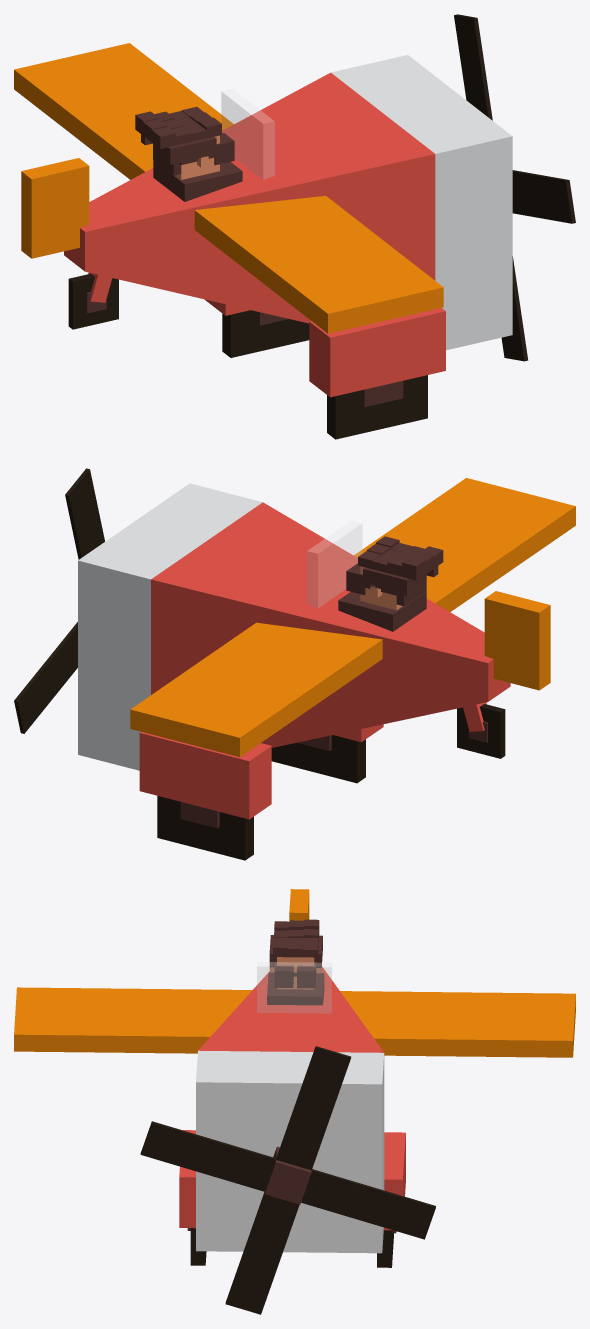
The picture shows the model from 3 angles, top to bottom: view 1: azimuth 30°, elevation 25°; view 2: azimuth 150°, elevation 25°; view 3: azimuth 270°, elevation 25°; orthographic projection. The views are drawn at different scales.
Parts seen in each view (by area): view 1: airplane, propeller, pilot, hairsTop; view 2: airplane, propeller, pilot, hairsTop; view 3: airplane, propeller, pilot, hairsTop.
Part boxes in pixels (bbox=[...]): airplane: bbox=[14, 43, 512, 439]; propeller: bbox=[454, 14, 575, 361]; pilot: bbox=[141, 133, 242, 201]; hairsTop: bbox=[135, 106, 221, 148]; airplane: bbox=[78, 478, 575, 860]; propeller: bbox=[14, 468, 104, 733]; pilot: bbox=[338, 563, 438, 631]; hairsTop: bbox=[358, 536, 443, 580]; airplane: bbox=[14, 889, 575, 1267]; propeller: bbox=[140, 1046, 435, 1314]; pilot: bbox=[267, 935, 324, 1005]; hairsTop: bbox=[273, 919, 319, 957].
Bounding box in the file's own units: 1.23 × 0.7964 × 1.51.
